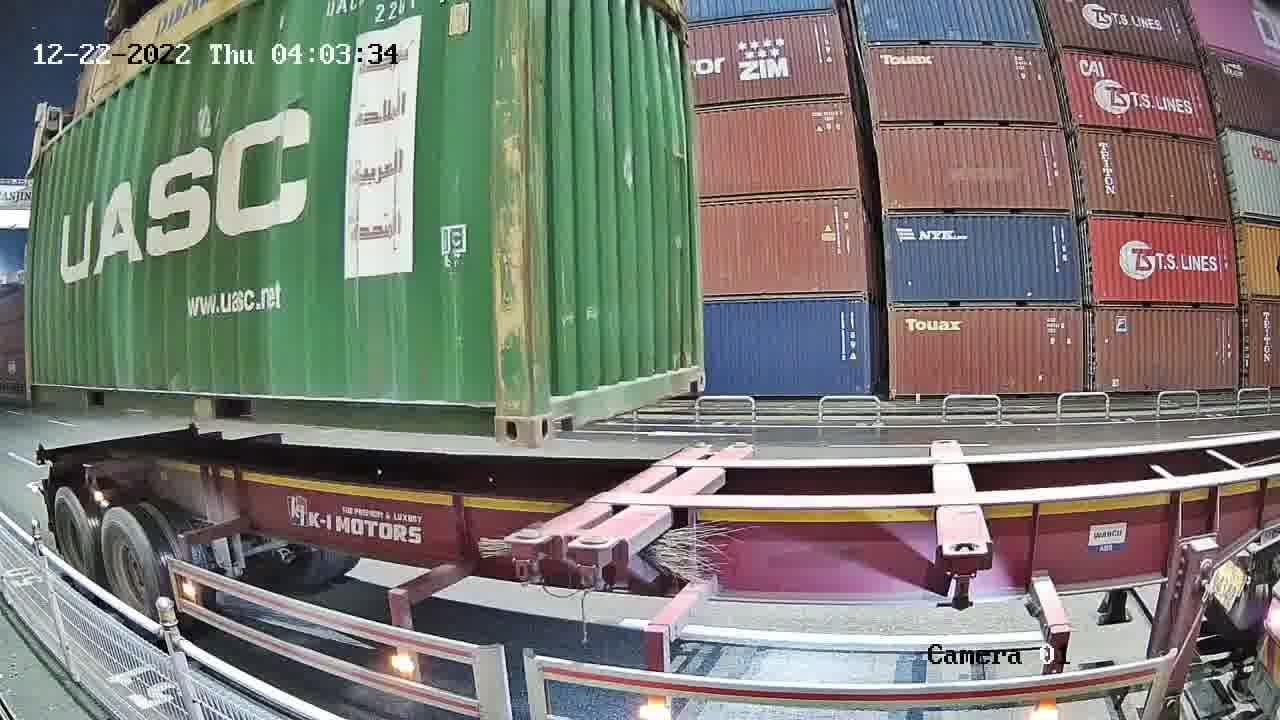Chassis: (505, 444, 710, 546), (568, 445, 753, 551)
Cone: (510, 529, 549, 588), (572, 536, 614, 590)
Hole_L: (529, 367, 588, 447)
Hole_R: (453, 379, 534, 448), (679, 348, 705, 394)
Tire: (101, 509, 159, 630), (53, 490, 95, 587)
